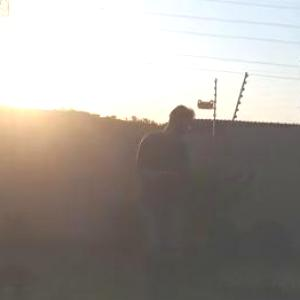follow: (123, 101, 191, 299)
